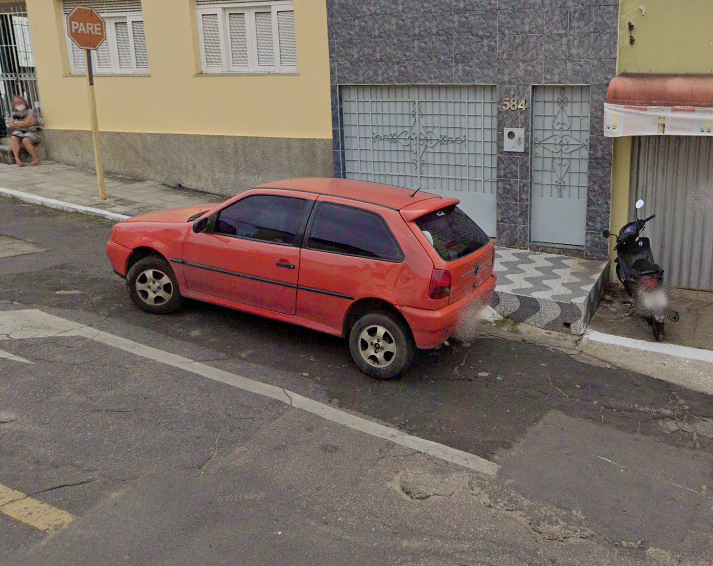car: (101, 170, 500, 391)
